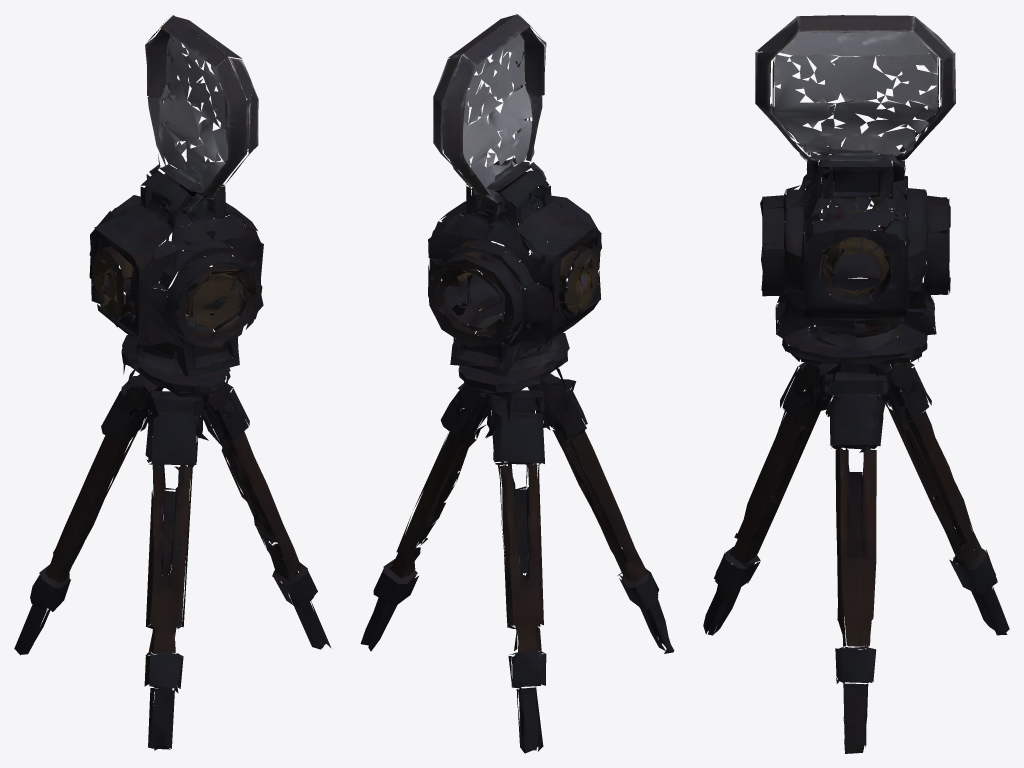
Rendered from prop-landing-beacon-lod1.glb.
3 views of the same model, side by side, from view 1: azimuth 30°, elevation 25°; view 2: azimuth 150°, elevation 25°; view 3: azimuth 270°, elevation 25° (orthographic). The views are drawn at different scales.
Visible parts, largest first — view 1: xenovoya_runtime_asset; view 2: xenovoya_runtime_asset; view 3: xenovoya_runtime_asset.
Part boxes in pixels (bbox=[...]): xenovoya_runtime_asset: bbox=[14, 15, 331, 750]; xenovoya_runtime_asset: bbox=[360, 14, 674, 753]; xenovoya_runtime_asset: bbox=[703, 15, 1009, 753].
Size of the model in its own units: 0.2718 by 0.6837 by 0.2805.
1 material, 1 textured.
